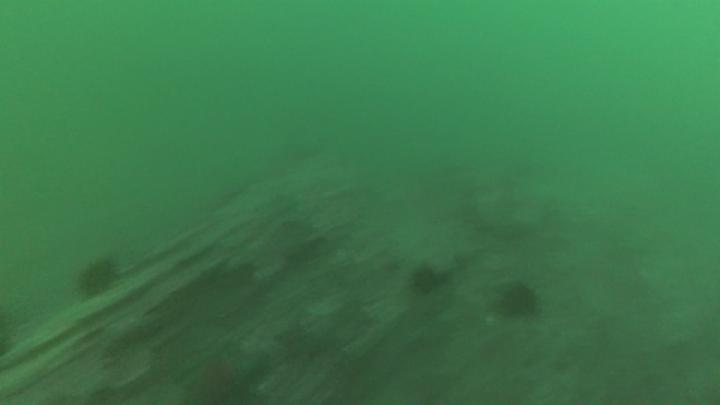echinus: (493, 280, 536, 318), (78, 260, 113, 295), (409, 262, 441, 292)
starfish: (170, 343, 265, 405)
